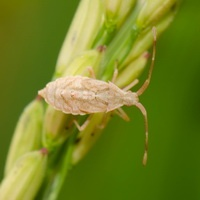insect: (38, 26, 156, 165)
